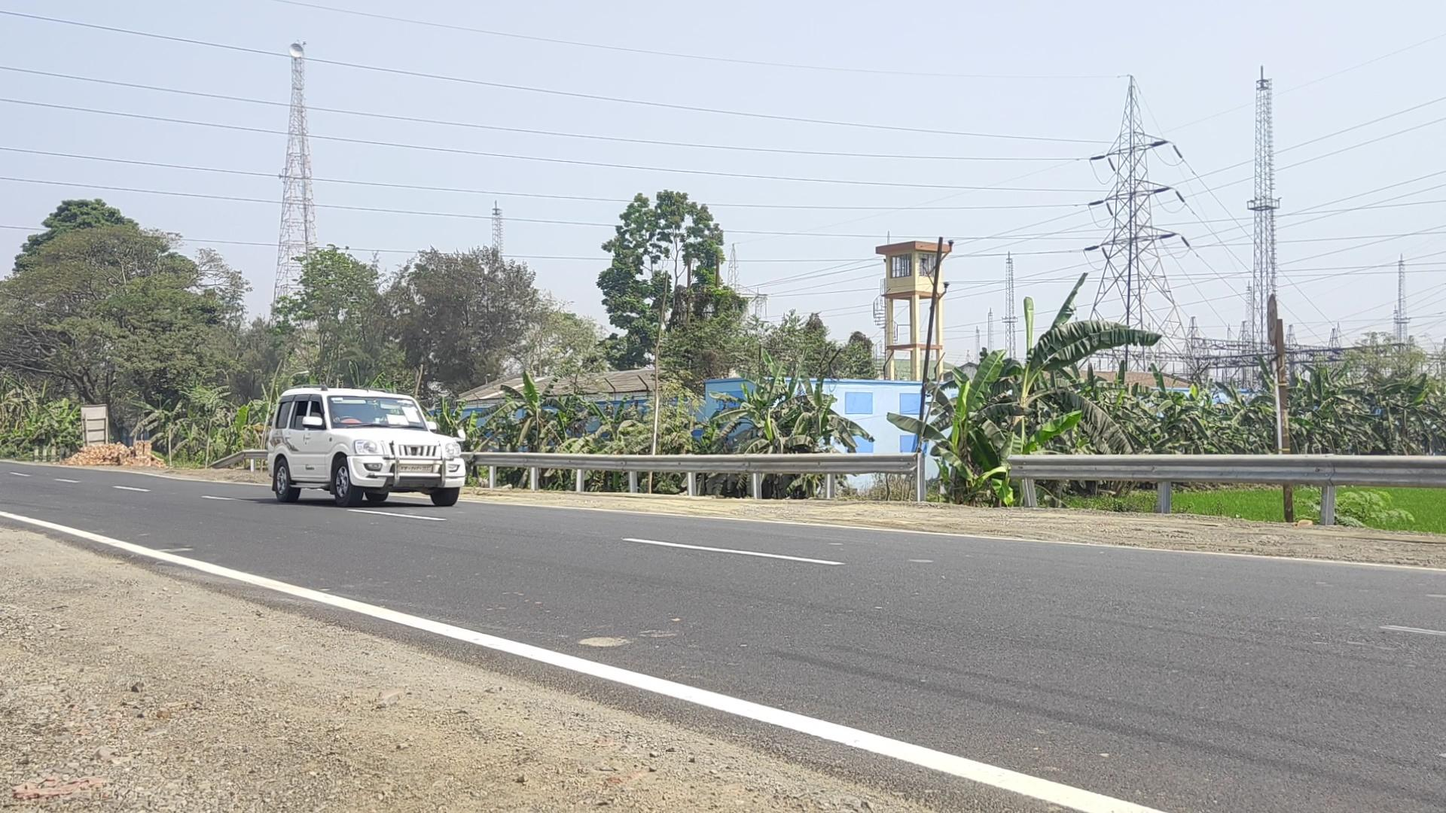car: (266, 385, 466, 507)
